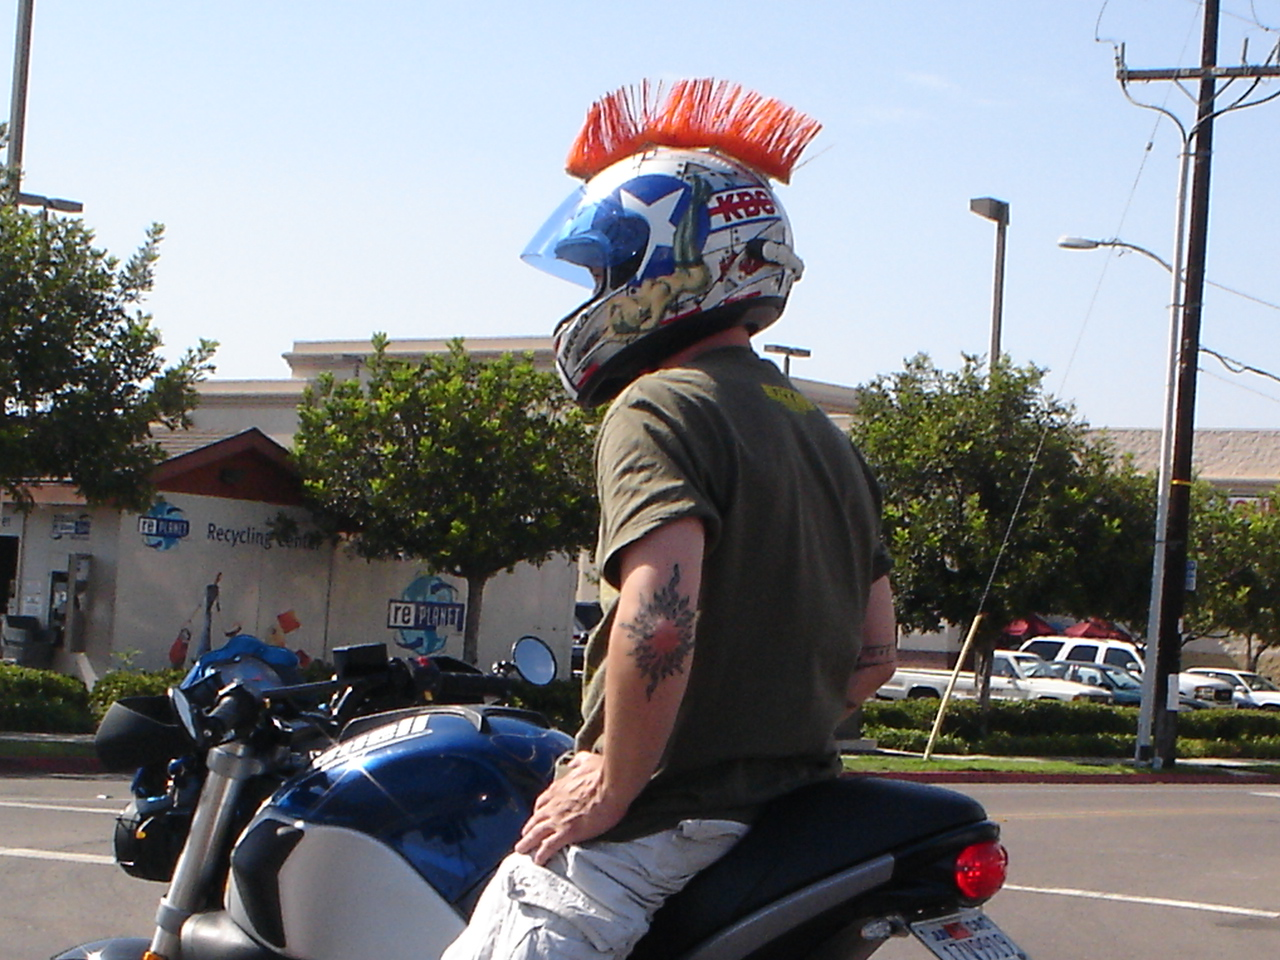helmet: (530, 152, 816, 345)
